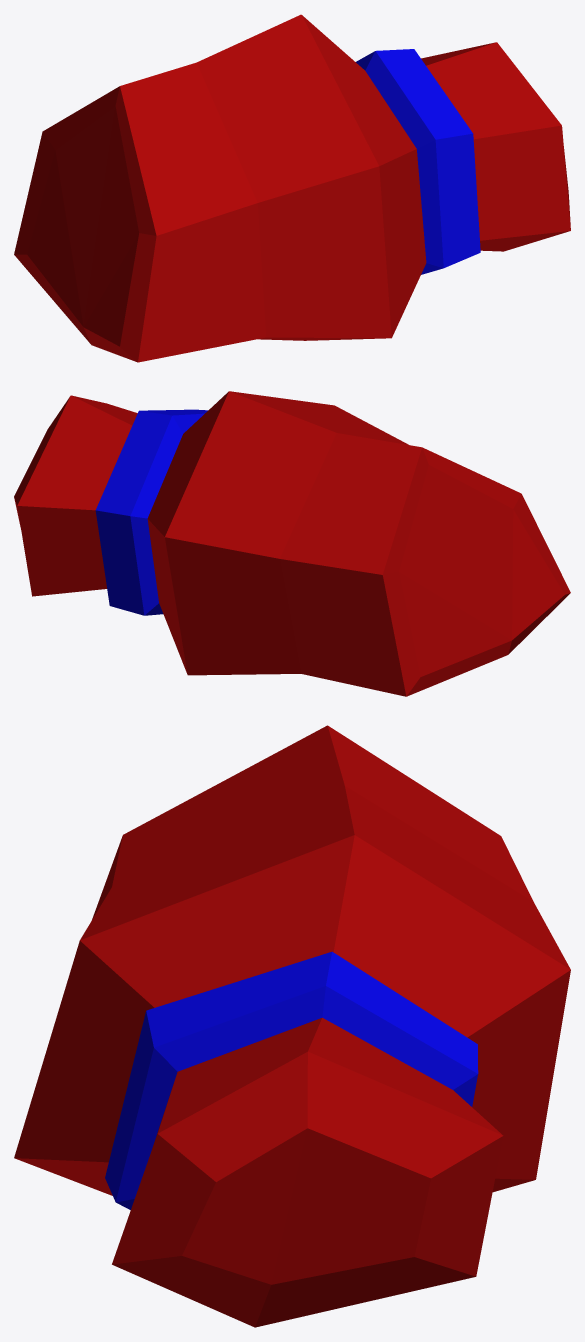
The model's file is Chr_ArmUpperLeft_Male_Static_17.fbx.
The picture shows the model from 3 angles, top to bottom: view 1: azimuth 30°, elevation 25°; view 2: azimuth 150°, elevation 25°; view 3: azimuth 270°, elevation 25°; orthographic projection. The views are drawn at different scales.
Parts seen in each view (by area): view 1: Chr_ArmUpperLeft_Male_17; view 2: Chr_ArmUpperLeft_Male_17; view 3: Chr_ArmUpperLeft_Male_17.
Boxes of the visible parts, x1=… form: Chr_ArmUpperLeft_Male_17: x1=14, y1=14, x2=570, y2=362; Chr_ArmUpperLeft_Male_17: x1=14, y1=391, x2=570, y2=696; Chr_ArmUpperLeft_Male_17: x1=14, y1=725, x2=570, y2=1327.
Size of the model in its own units: 32.55 by 19.48 by 22.38.
